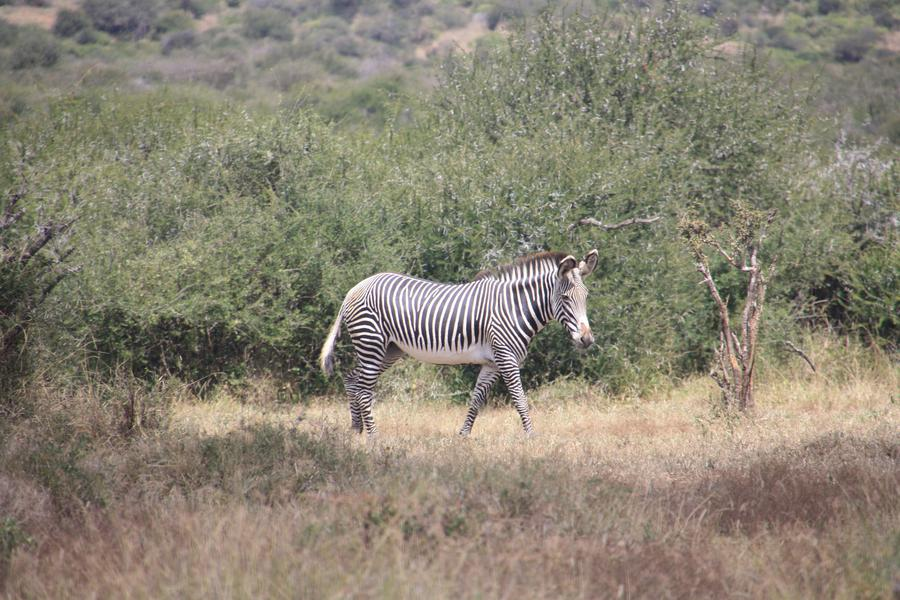zebra_grevys: (338, 258, 530, 360)
